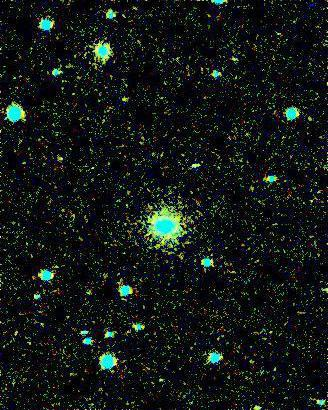star: (114, 88, 144, 118)
